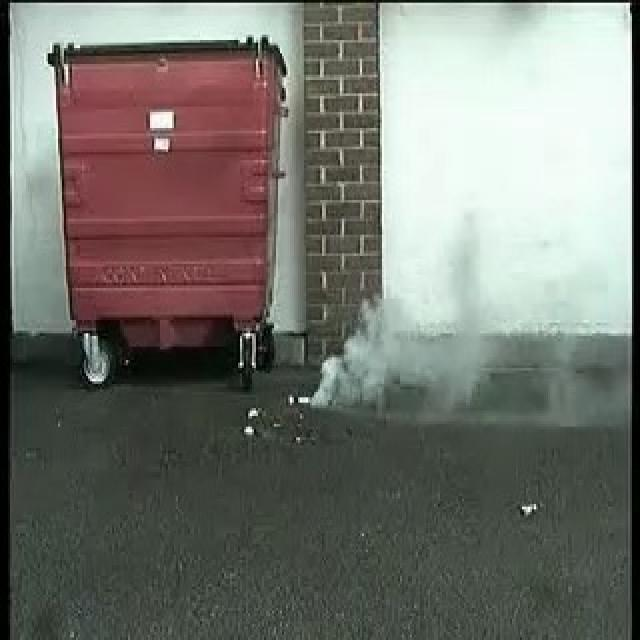smoke: (316, 293, 501, 421)
